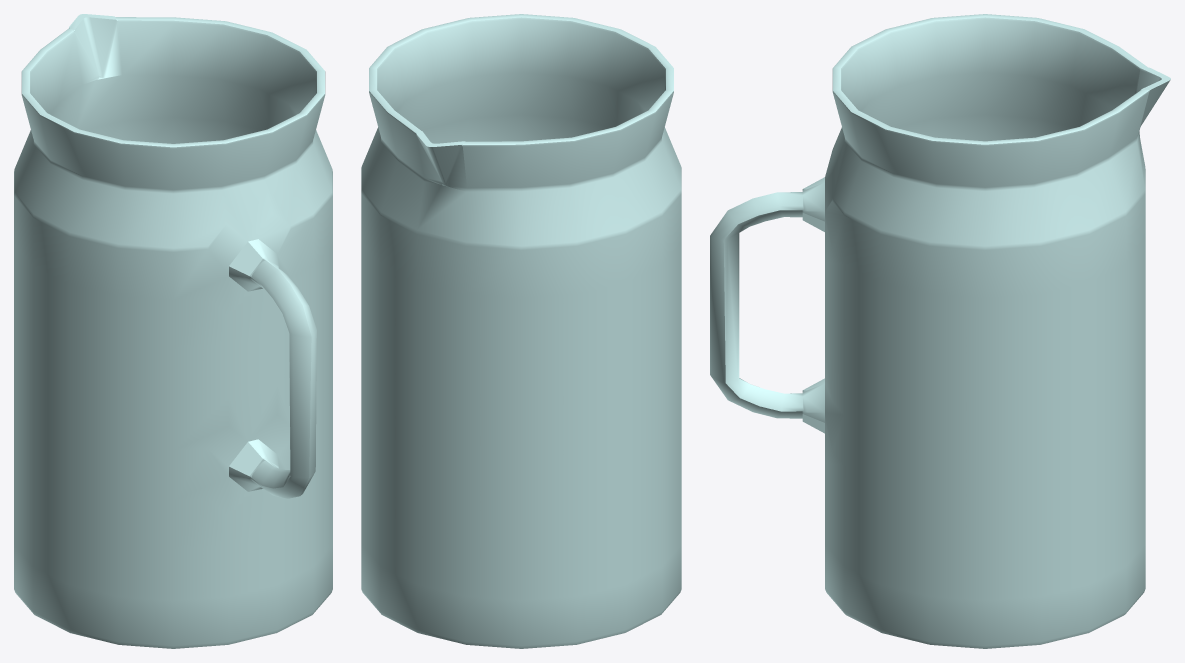
File: Water_Jug_AG.FBX
3 renders of one model, left to right at view 1: azimuth 30°, elevation 25°; view 2: azimuth 150°, elevation 25°; view 3: azimuth 270°, elevation 25°, orthographic.
Parts seen in each view (by area): view 1: Jug; view 2: Jug; view 3: Jug.
Part boxes in pixels (box(x1,y1,x2,y2)): Jug: box(14, 14, 332, 648); Jug: box(361, 14, 681, 648); Jug: box(710, 14, 1170, 648).
Size of the model in its own units: 5.77 by 9.84 by 8.17.
